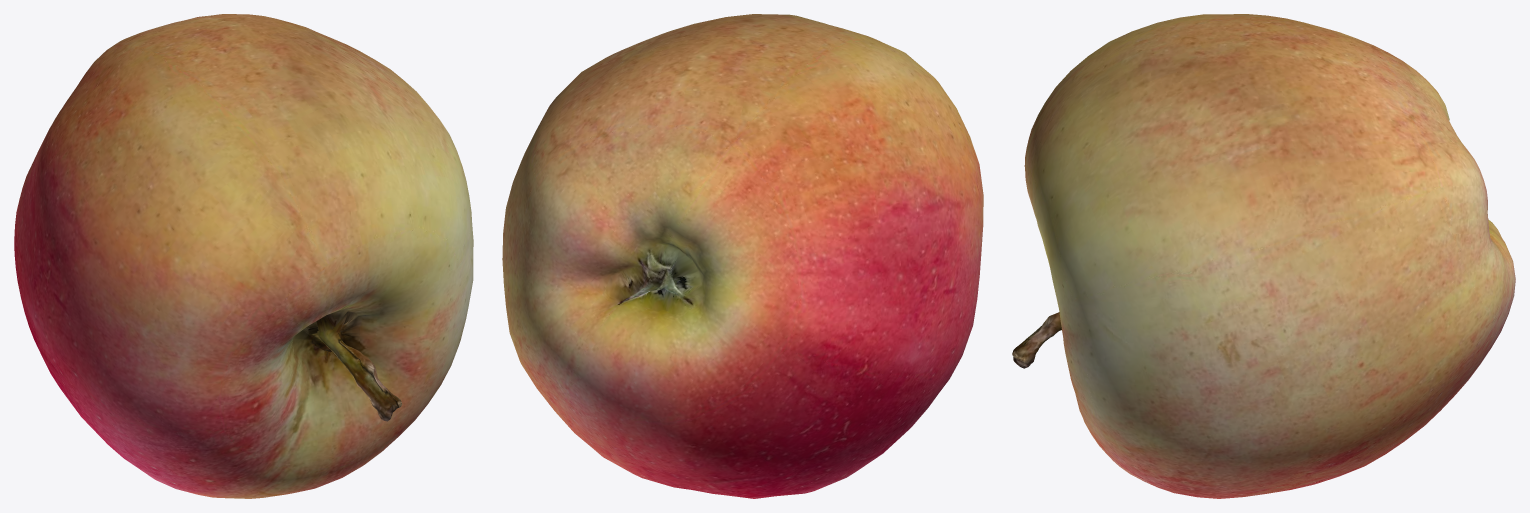
3 renders of one model, left to right at view 1: azimuth 30°, elevation 25°; view 2: azimuth 150°, elevation 25°; view 3: azimuth 270°, elevation 25°, orthographic. The views are drawn at different scales.
Parts seen in each view (by area): view 1: apple; view 2: apple; view 3: apple.
Part boxes in pixels (x1,y1,x2,y2): apple: [14, 14, 473, 498]; apple: [502, 14, 983, 498]; apple: [1012, 14, 1515, 498].
Bounding box in the file's own units: 0.0719 × 0.0793 × 0.0753.
1 material, 1 textured.
